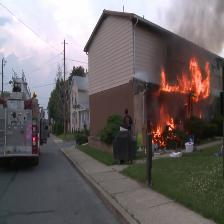fire: (151, 48, 222, 159)
smoke: (157, 1, 224, 65)
